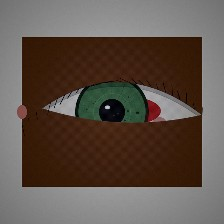hemorrhage_spot: (75, 71, 174, 151)
